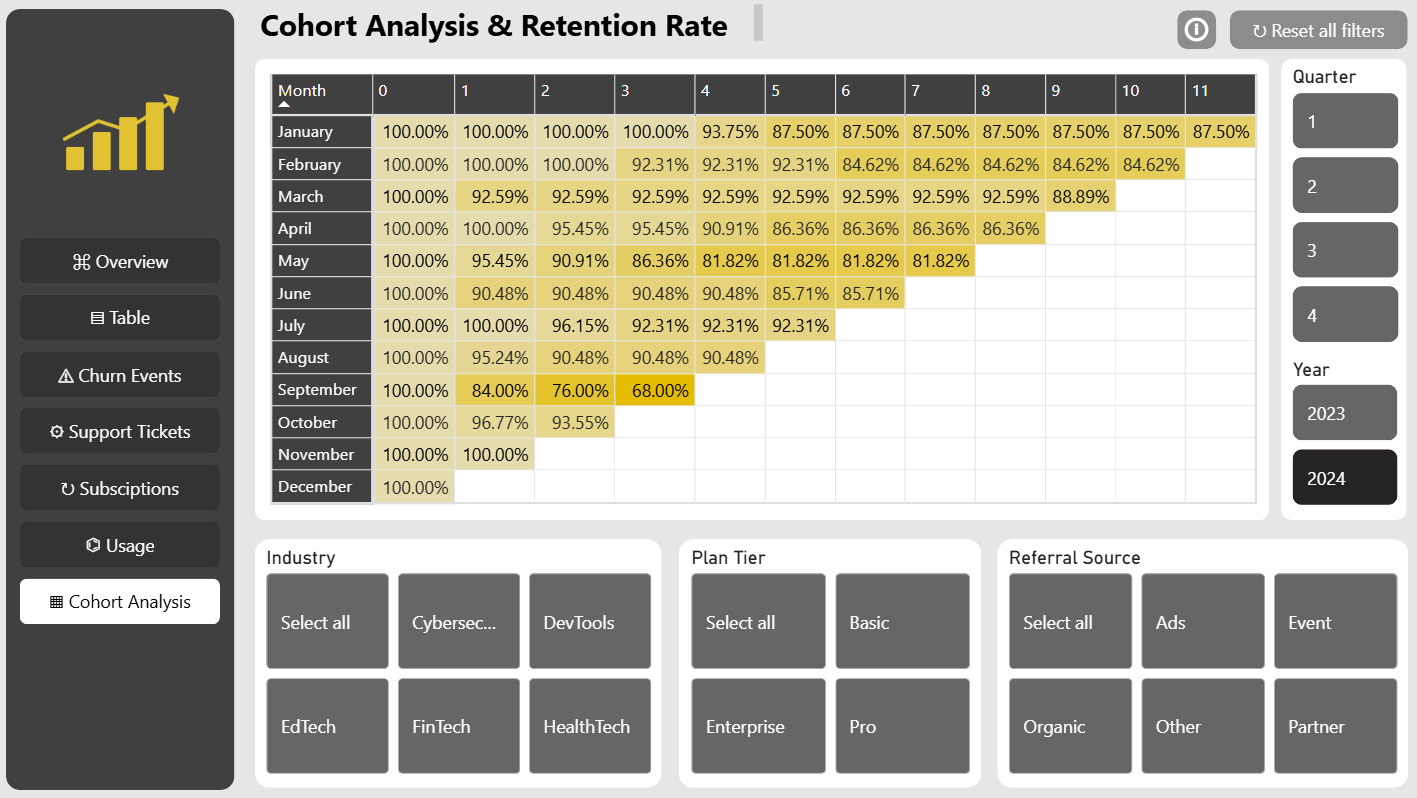

Layout of this report page (visuals, bound fields, positions):
{"tool":"powerbi","page":{"name":"▦ Cohort Analysis","canvas":[1280,720],"ordinal":6},"visuals":[{"type":"image","box":[1.3,0,1278.9,719.7],"z":0},{"type":"shape","box":[1155.3,53.9,113.2,414.5],"z":1000},{"type":"shape","box":[232.9,485.5,365.8,223.7],"z":2000},{"type":"shape","box":[232.9,53.9,911.8,414.5],"z":3000},{"type":"shape","box":[900,485.5,369.7,223.7],"z":4000},{"type":"textbox","box":[232.6,0,461.8,43.8],"z":5000},{"type":"actionButton","box":[1062,10,35,35],"z":6000},{"type":"actionButton","title":"d","box":[1108.8,10,160,35],"z":7000},{"type":"shape","box":[0,0,223.3,720],"z":8000},{"type":"pageNavigator","box":[21.2,215,180,350],"z":9000},{"type":"pivotTable","title":"Seats by Month","fields":{"Columns":["public vw_retention_analysis.month_since_signup"],"Rows":["public vw_retention_analysis.cohort_month.Variation.Date Hierarchy.Month"],"Values":["public vw_retention_analysis.Retention Rate"]},"box":[242.1,63.2,903.9,405.3],"z":10000},{"type":"advancedSlicerVisual","fields":{"Values":["date.Quarter"]},"box":[1160.5,55.3,110.5,261.8],"z":11000},{"type":"advancedSlicerVisual","fields":{"Values":["public accounts.industry"]},"box":[238.2,492.1,357.9,210.5],"z":12000},{"type":"advancedSlicerVisual","fields":{"Values":["date.Year"]},"box":[1160.5,322.4,117.1,140.8],"z":13000},{"type":"advancedSlicerVisual","fields":{"Values":["public accounts.referral_source"]},"box":[905.3,492.1,361.8,210.5],"z":14000},{"type":"shape","box":[613.2,485.5,272.4,223.7],"z":15000},{"type":"advancedSlicerVisual","fields":{"Values":["public accounts.plan_tier"]},"box":[619.7,492.1,260.5,210.5],"z":16000},{"type":"image","box":[0,74,238,110],"z":17000}]}

Visuals, with their boxes on the page's 1280x720 design canvas (x1, y1, x2, y2). These are canvas units, not pixel positions in the 1417x798 screenshot, which may show the page scaled, cropped or inside an application window:
image: <region>1, 0, 1280, 720</region>
shape: <region>1155, 54, 1268, 468</region>
shape: <region>233, 486, 599, 709</region>
shape: <region>233, 54, 1145, 468</region>
shape: <region>900, 486, 1270, 709</region>
textbox: <region>233, 0, 694, 44</region>
actionButton: <region>1062, 10, 1097, 45</region>
"d" actionButton: <region>1109, 10, 1269, 45</region>
shape: <region>0, 0, 223, 720</region>
pageNavigator: <region>21, 215, 201, 565</region>
"Seats by Month" pivotTable: <region>242, 63, 1146, 468</region>
advancedSlicerVisual - date.Quarter: <region>1160, 55, 1271, 317</region>
advancedSlicerVisual - public accounts.industry: <region>238, 492, 596, 703</region>
advancedSlicerVisual - date.Year: <region>1160, 322, 1278, 463</region>
advancedSlicerVisual - public accounts.referral_source: <region>905, 492, 1267, 703</region>
shape: <region>613, 486, 886, 709</region>
advancedSlicerVisual - public accounts.plan_tier: <region>620, 492, 880, 703</region>
image: <region>0, 74, 238, 184</region>
